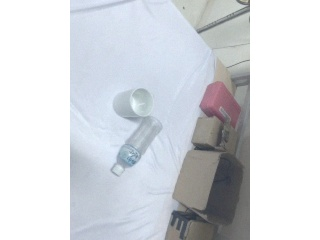bottle: (110, 115, 163, 177)
box: (173, 150, 243, 225), (161, 210, 216, 240)
cup: (112, 88, 154, 118)
